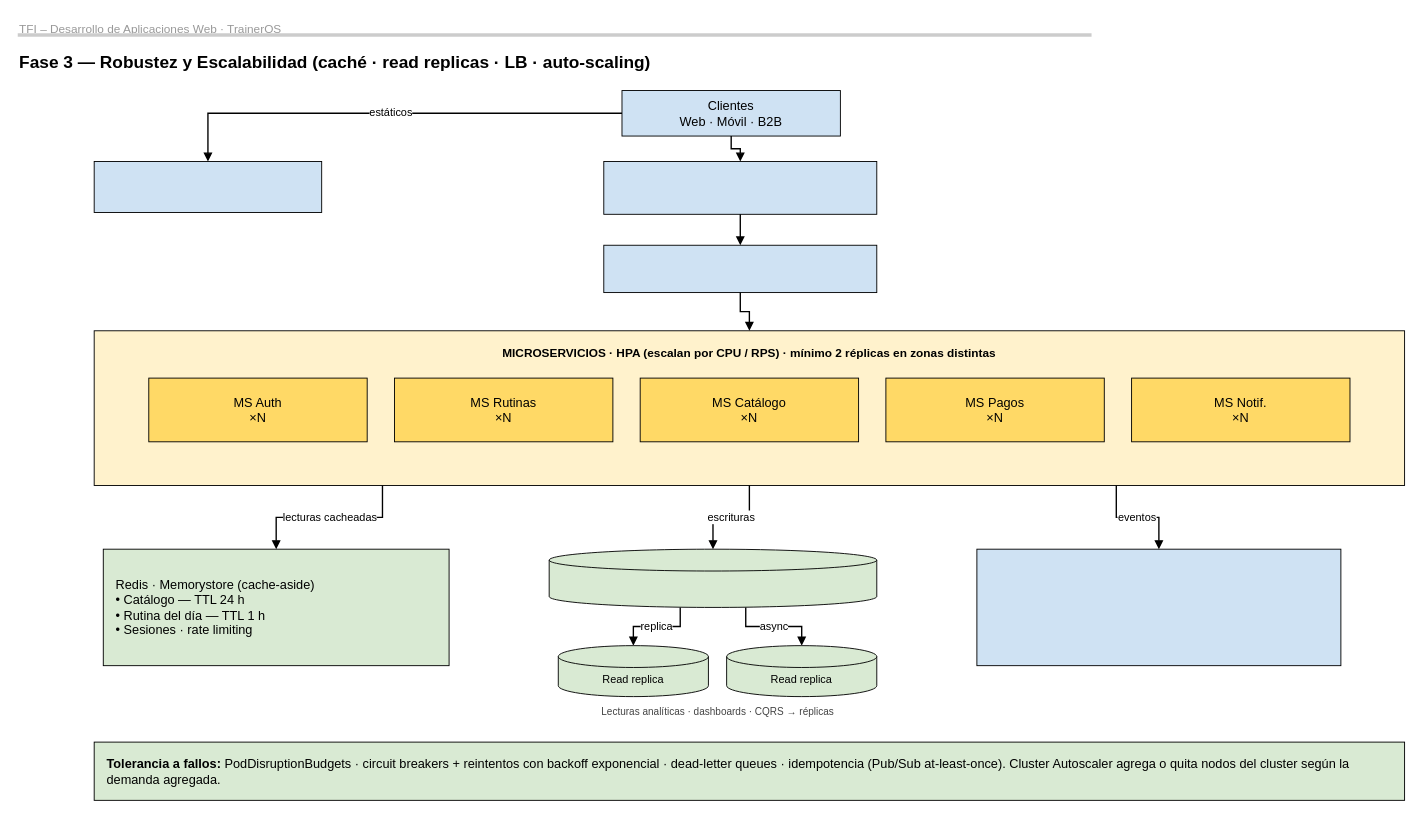
Image size: 1421x816. Some labels were removed from this diagram. The shapes that lost their labels are listed below. From the top down, each one's centre as x and y in pixels, then its label:
At (x=207, y=186): "CDN assets · videos de técnica (edge)".
At (x=740, y=187): "Cloud Load Balancer HTTPS · termina TLS · multi-zona".
At (x=740, y=268): "API Gateway ×N (réplicas)".
At (x=712, y=577): "Cloud SQL — Primaria HA multi-zona · failover automático".
At (x=1158, y=607): "Pub/Sub — backbone de eventos tópicos + DLQ entrega at-least-once · reintentos".
